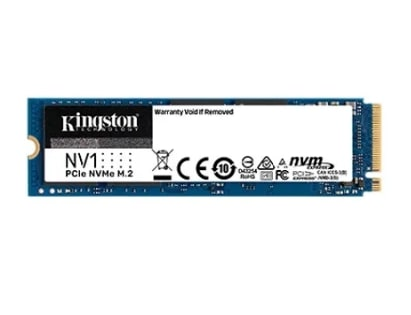ssd2280: (23, 96, 385, 201)
